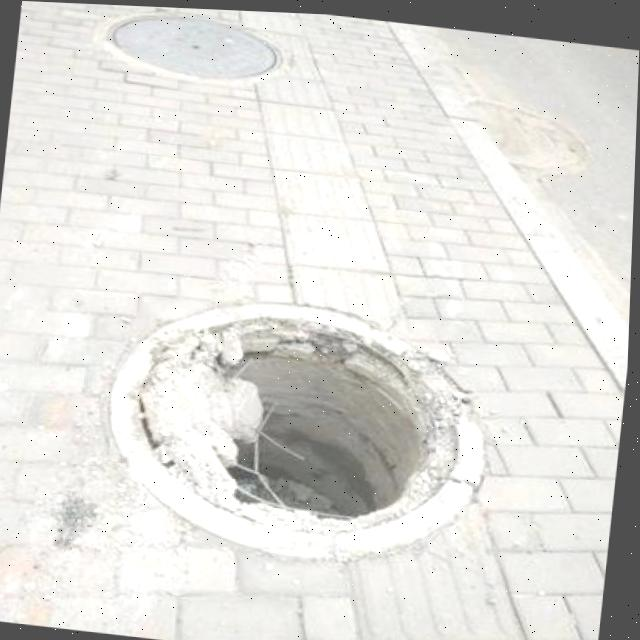manhole: (87, 273, 498, 571)
